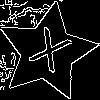X: (22, 27, 73, 82)
